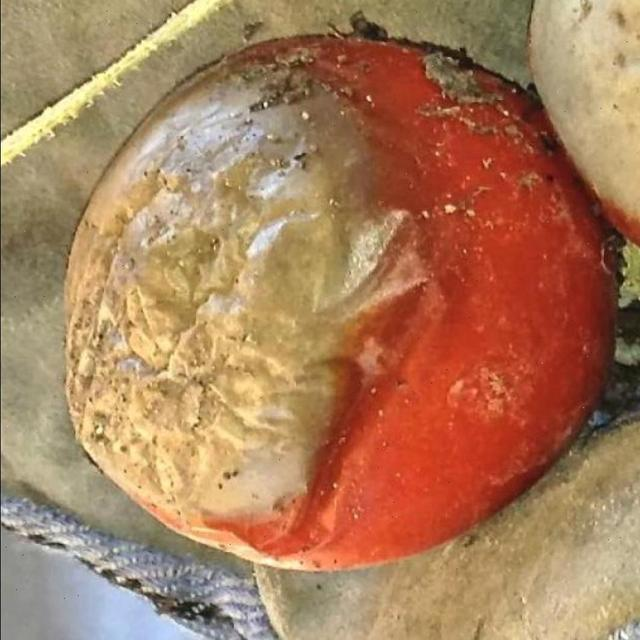Blossom End Rot Fruit: (43, 38, 280, 355)
